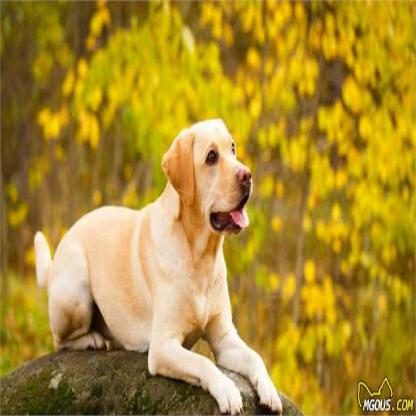dog: (56, 119, 282, 415)
